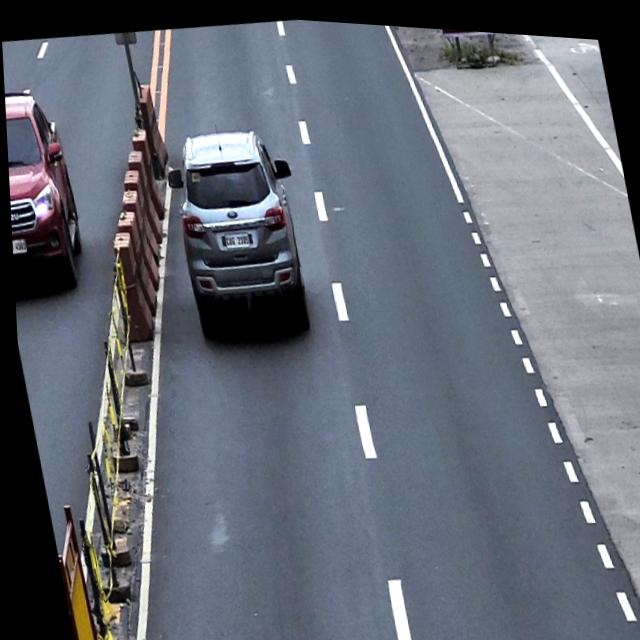Car: (156, 114, 318, 342), (3, 83, 88, 295)
License-Plate: (216, 223, 254, 249), (10, 236, 26, 258)
